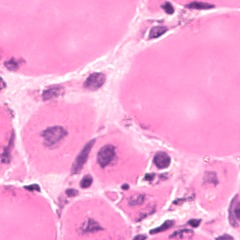New: (17, 96, 95, 172), (89, 131, 150, 189), (59, 198, 131, 239), (191, 159, 237, 212)
